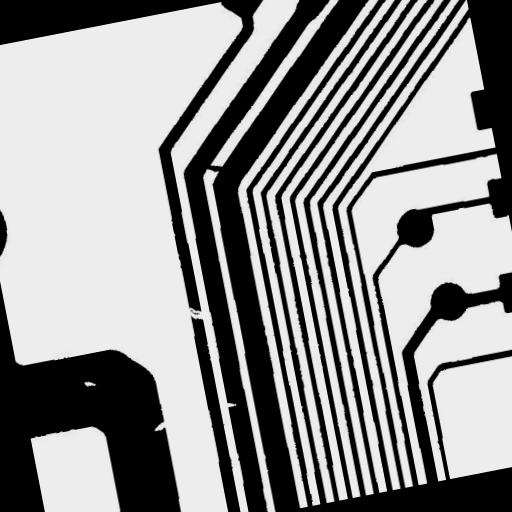mousebite: (144, 412, 177, 440), (216, 392, 246, 416)
open: (176, 296, 214, 331)
pin-hole: (75, 370, 105, 396)
short: (196, 153, 232, 182)
